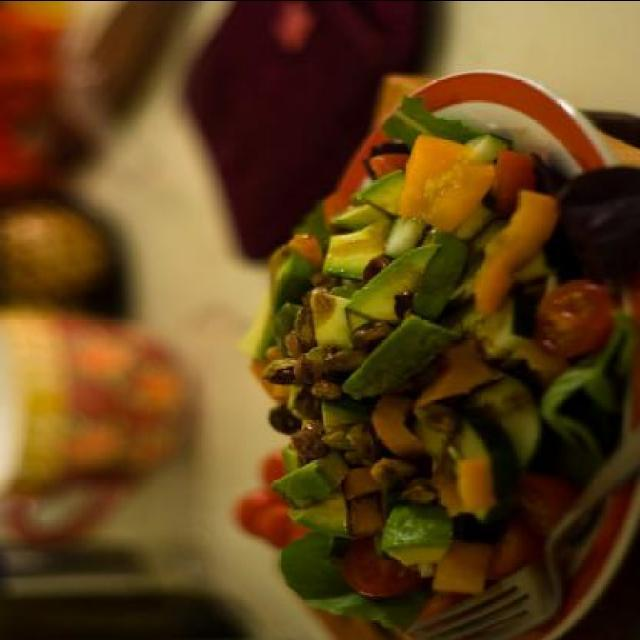Salad: (224, 57, 630, 640)
